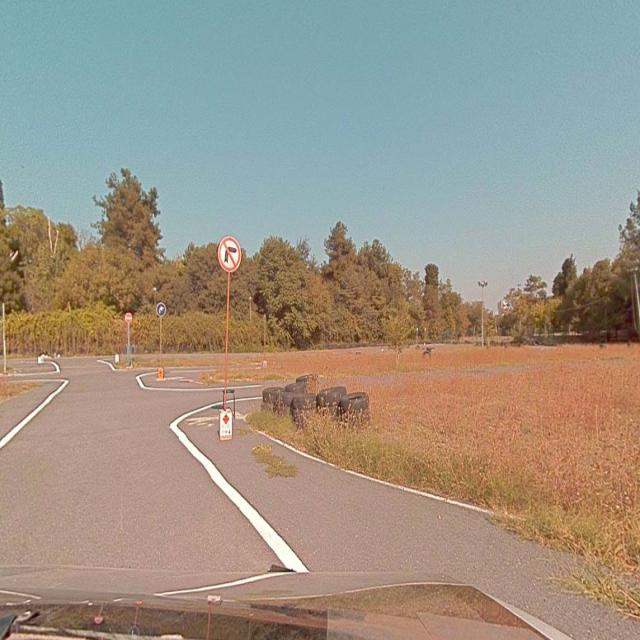girisyok: (125, 313, 132, 323)
sag: (157, 302, 166, 316)
sagadonulmez: (218, 237, 240, 270)
